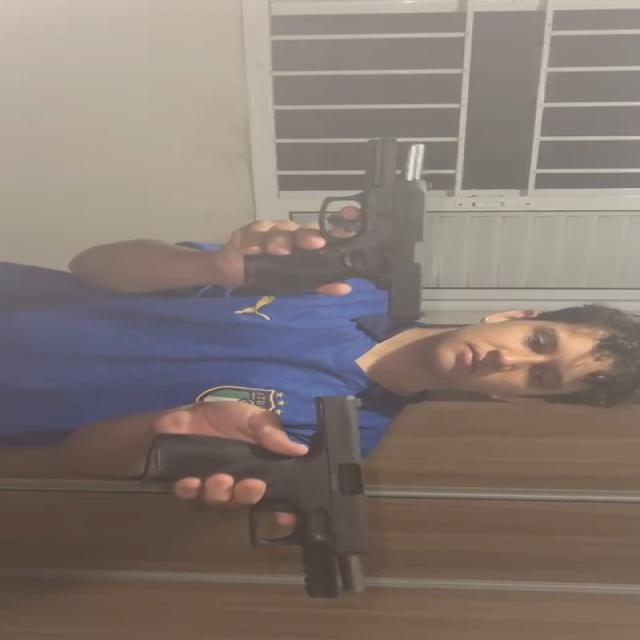guns: (244, 135, 428, 323)
